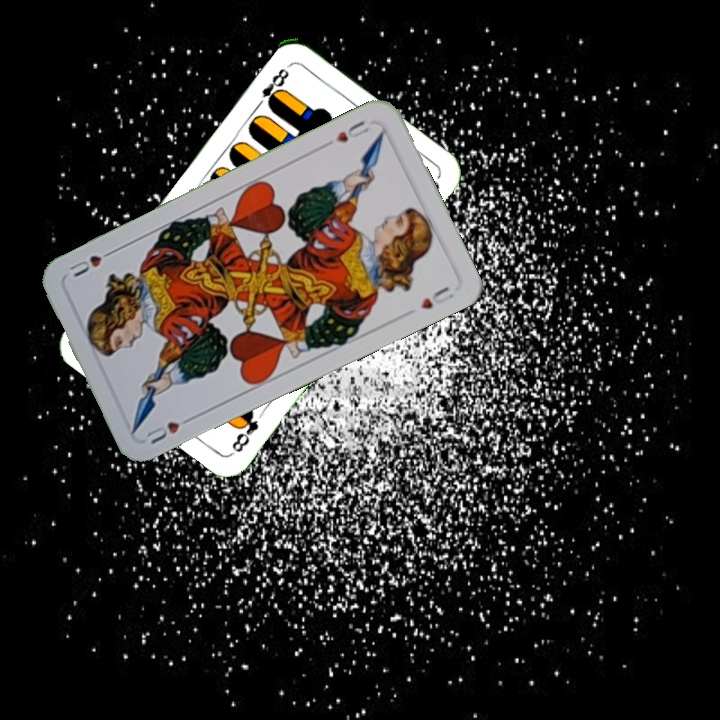E8: (252, 64, 292, 111), (228, 404, 262, 456)
HU: (142, 411, 197, 447), (331, 116, 375, 145)
